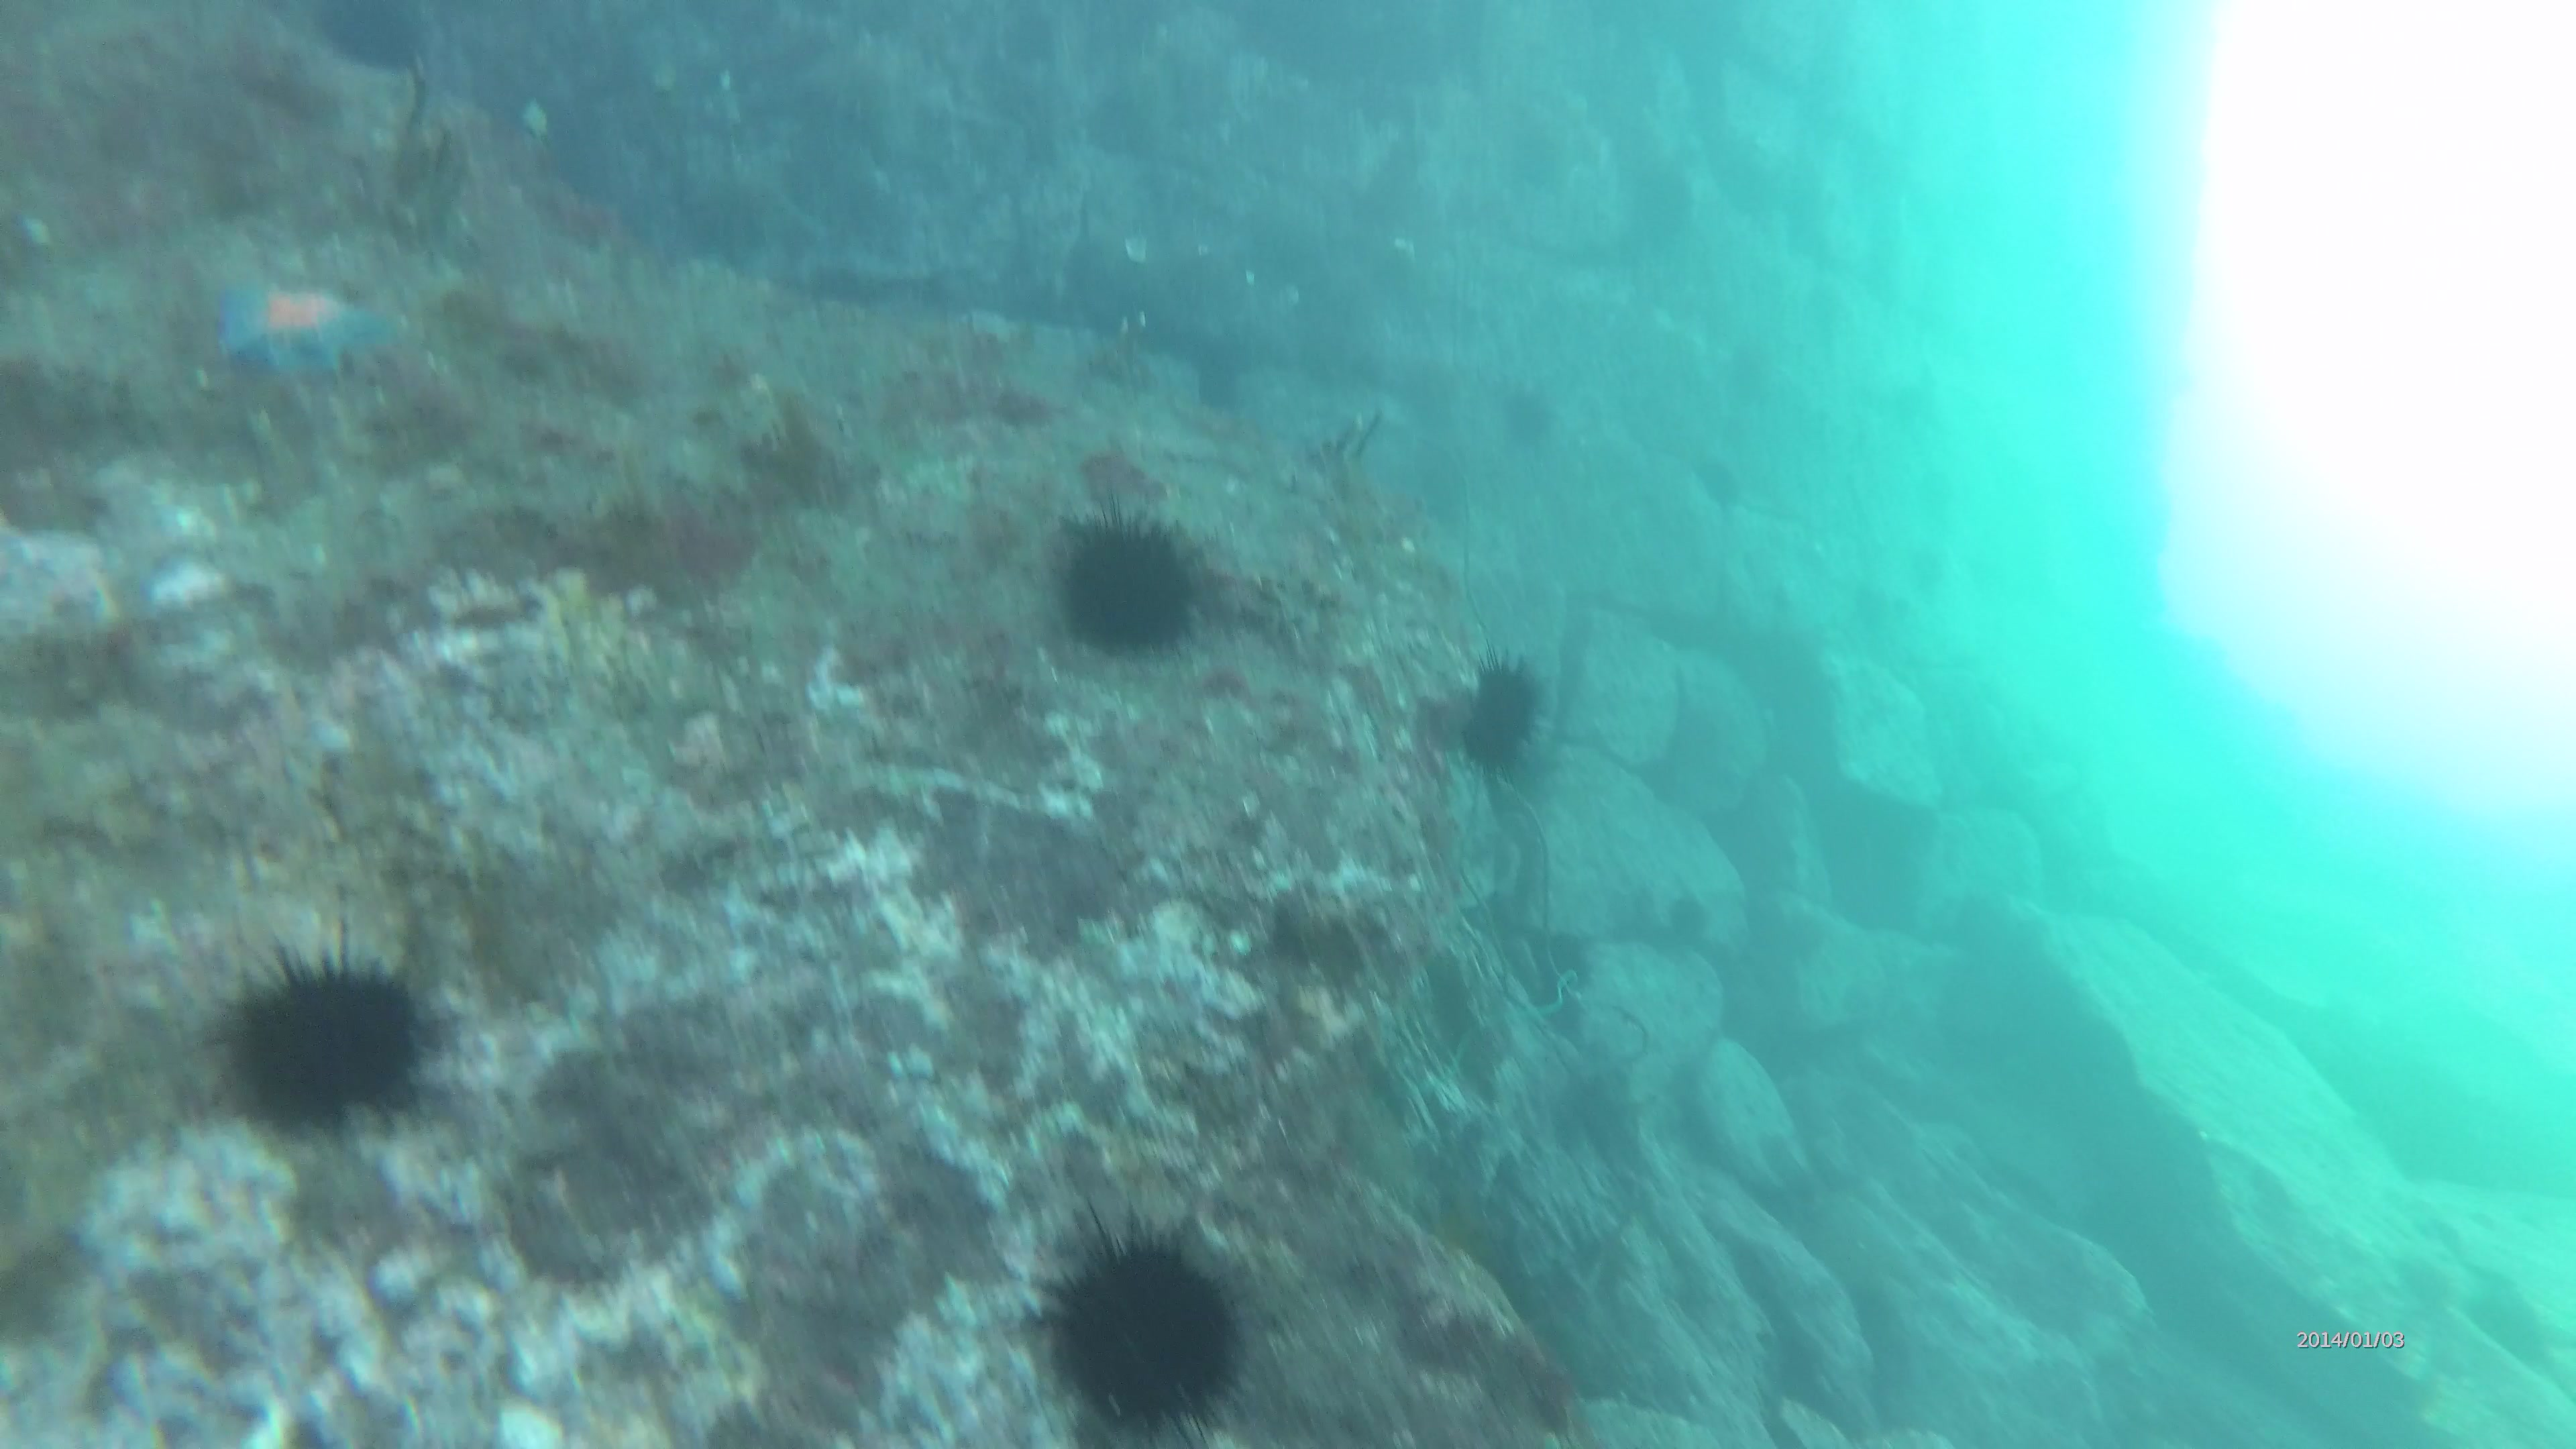echinus: (1005, 1185, 1277, 1449), (188, 922, 435, 1131), (1054, 492, 1192, 663), (1451, 639, 1555, 778)
starfish: (209, 278, 400, 386)
